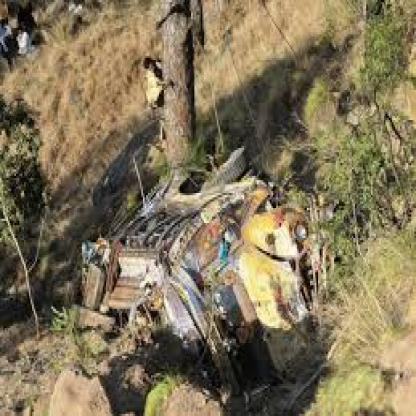accident: (36, 145, 383, 398)
